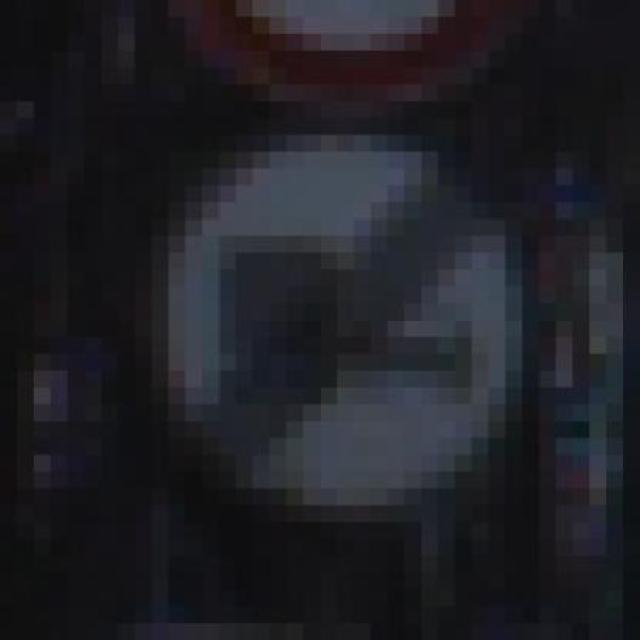Overtaking by trucks is prohibited: (101, 101, 590, 556)
